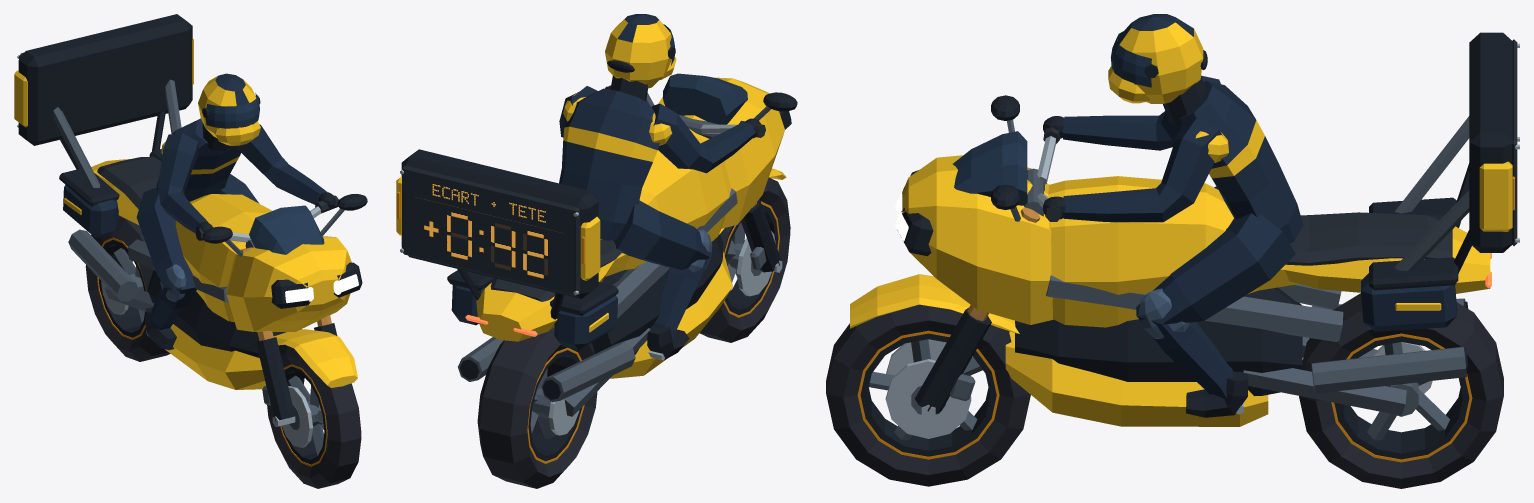
The model's file is moto-chrono-poly.glb.
3 views of the same model, side by side, from view 1: azimuth 30°, elevation 25°; view 2: azimuth 150°, elevation 25°; view 3: azimuth 270°, elevation 25° (orthographic). The views are drawn at different scales.
Parts seen in each view (by area): view 1: Moto_Chrono_Carbone graphite, Moto_Chrono_Jaune course, Moto_Chrono_Bleu nuit, Moto_Chrono_Acier foncé, Roue_AV_Pneumatiques, Moto_Chrono_Visière fumée, Roue_AR_Pneumatiques, Moto_Chrono_Bleu nuit.001, Moto_Chrono_Assise et poignées, Moto_Chrono_Jaune course.001, Roue_AR_Carbone graphite, Roue_AV_Aluminium satiné (+7 smaller); view 2: Moto_Chrono_Jaune course, Moto_Chrono_Carbone graphite, Chrono_Ecran, Moto_Chrono_Bleu nuit, Moto_Chrono_Bleu nuit.001, Roue_AR_Pneumatiques, Moto_Chrono_Acier foncé, Moto_Chrono_Jaune course.001, Roue_AV_Pneumatiques, Moto_Chrono_Visière fumée, Moto_Chrono_Assise et poignées, Roue_AR_Carbone graphite (+7 smaller); view 3: Moto_Chrono_Jaune course, Moto_Chrono_Carbone graphite, Moto_Chrono_Bleu nuit, Moto_Chrono_Acier foncé, Roue_AV_Pneumatiques, Roue_AR_Pneumatiques, Moto_Chrono_Bleu nuit.001, Moto_Chrono_Assise et poignées, Moto_Chrono_Jaune course.001, Moto_Chrono_Visière fumée, Roue_AV_Aluminium satiné, Roue_AR_Carbone graphite (+7 smaller).
Part boxes in pixels (x1,y1,x2,y2): Moto_Chrono_Carbone graphite: (18, 14, 367, 421); Moto_Chrono_Jaune course: (14, 38, 357, 389); Moto_Chrono_Bleu nuit: (63, 124, 326, 329); Moto_Chrono_Acier foncé: (53, 79, 344, 405); Roue_AV_Pneumatiques: (267, 344, 361, 488); Moto_Chrono_Visière fumée: (205, 93, 324, 254); Roue_AR_Pneumatiques: (85, 215, 170, 361); Moto_Chrono_Bleu nuit.001: (156, 118, 240, 201); Moto_Chrono_Assise et poignées: (19, 52, 338, 240); Moto_Chrono_Jaune course.001: (198, 73, 256, 137); Roue_AR_Carbone graphite: (98, 240, 145, 337); Roue_AV_Aluminium satiné: (282, 386, 323, 447); Moto_Chrono_Jaune course: (396, 56, 786, 378); Moto_Chrono_Carbone graphite: (401, 47, 797, 399); Chrono_Ecran: (404, 169, 574, 294); Moto_Chrono_Bleu nuit: (451, 86, 755, 350); Moto_Chrono_Bleu nuit.001: (559, 88, 659, 240); Roue_AR_Pneumatiques: (477, 327, 597, 488); Moto_Chrono_Acier foncé: (458, 93, 770, 416); Moto_Chrono_Jaune course.001: (605, 14, 671, 88); Roue_AV_Pneumatiques: (699, 177, 790, 342); Moto_Chrono_Visière fumée: (663, 24, 747, 124); Moto_Chrono_Assise et poignées: (402, 86, 765, 301); Roue_AR_Carbone graphite: (528, 350, 582, 461); Moto_Chrono_Jaune course: (850, 66, 1512, 426); Moto_Chrono_Carbone graphite: (897, 32, 1512, 417); Moto_Chrono_Bleu nuit: (1063, 75, 1456, 398); Moto_Chrono_Acier foncé: (949, 116, 1469, 415); Roue_AV_Pneumatiques: (826, 304, 1030, 486); Roue_AR_Pneumatiques: (1299, 293, 1503, 488); Moto_Chrono_Bleu nuit.001: (1180, 80, 1303, 243); Moto_Chrono_Assise et poignées: (1043, 39, 1517, 265); Moto_Chrono_Jaune course.001: (1117, 14, 1203, 103); Moto_Chrono_Visière fumée: (953, 31, 1151, 205); Roue_AV_Aluminium satiné: (885, 339, 971, 438); Roue_AR_Carbone graphite: (1334, 336, 1469, 459).
Size of the model in its own units: 0.854 by 1.63 by 2.22.
14 materials, 1 textured.
